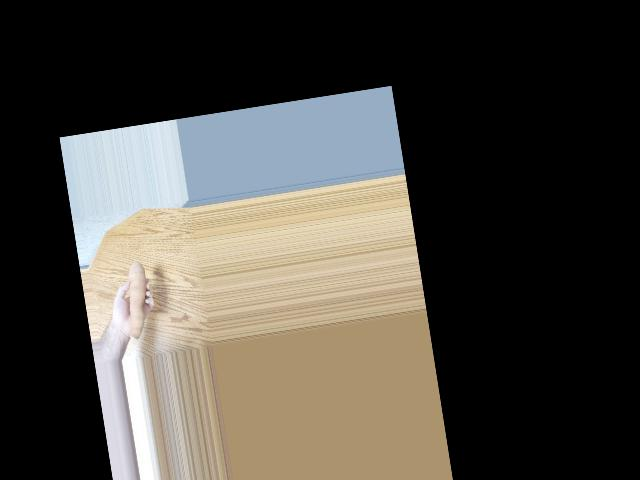sweet_potato: (118, 259, 159, 336)
